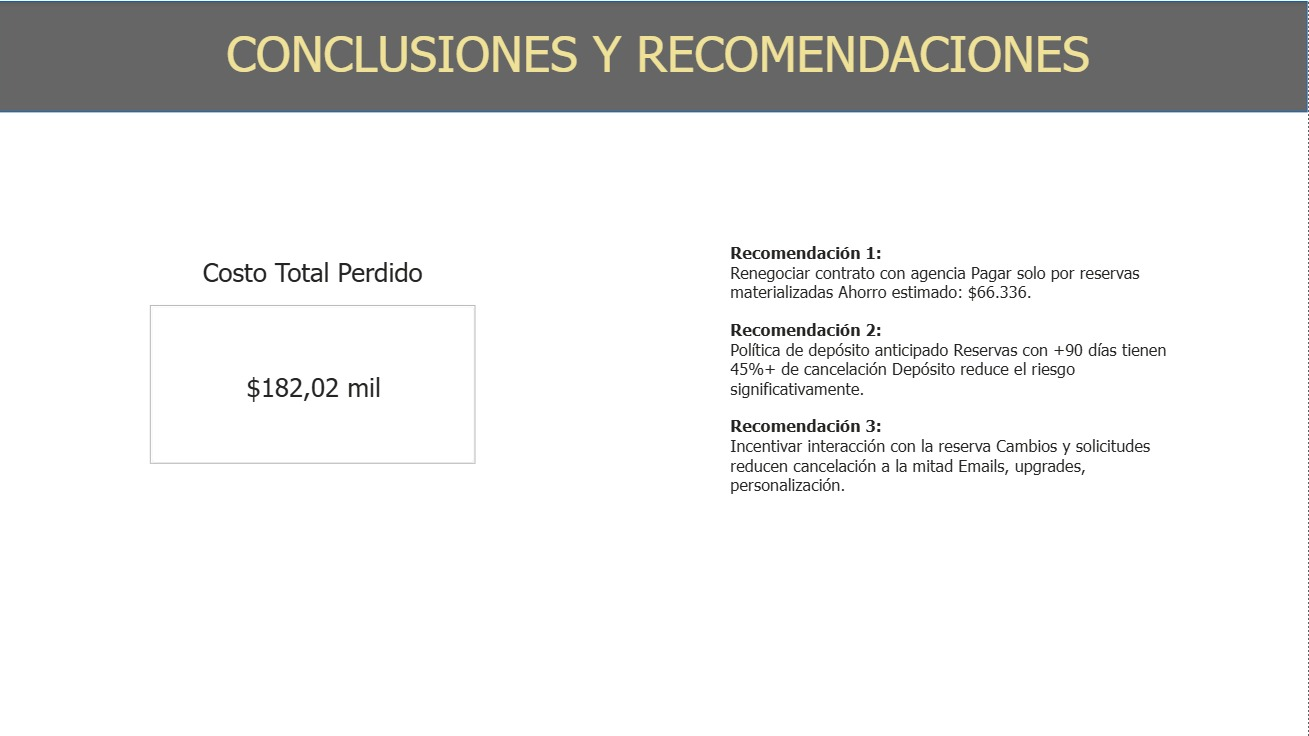

What the dashboard file says about the page in this screenshot:
{"tool":"powerbi","page":{"name":"Conclusiones y Recomendaciones","canvas":[1280,720],"ordinal":4},"visuals":[{"type":"shape","box":[10,0,1270.1,108.2],"z":0},{"type":"textbox","box":[90.9,17.3,1108.5,70.7],"z":1000},{"type":"textbox","box":[710.2,213.6,461.9,291.6],"z":6000},{"type":"cardVisual","title":"Costo Total Perdido","fields":{"Data":["_Métricas.010 $ Costo total perdido"]},"box":[131.3,249.7,352.2,220.8],"z":7000}]}

Visuals, with their boxes in screenshot pixels (x1, y1, x2, y2), scaled from the page's 1280x720 canvas onto the 1309x736 screenshot:
shape: select_region(10, 0, 1308, 111)
textbox: select_region(93, 18, 1227, 90)
textbox: select_region(726, 218, 1199, 516)
"Costo Total Perdido" cardVisual: select_region(134, 255, 494, 481)
